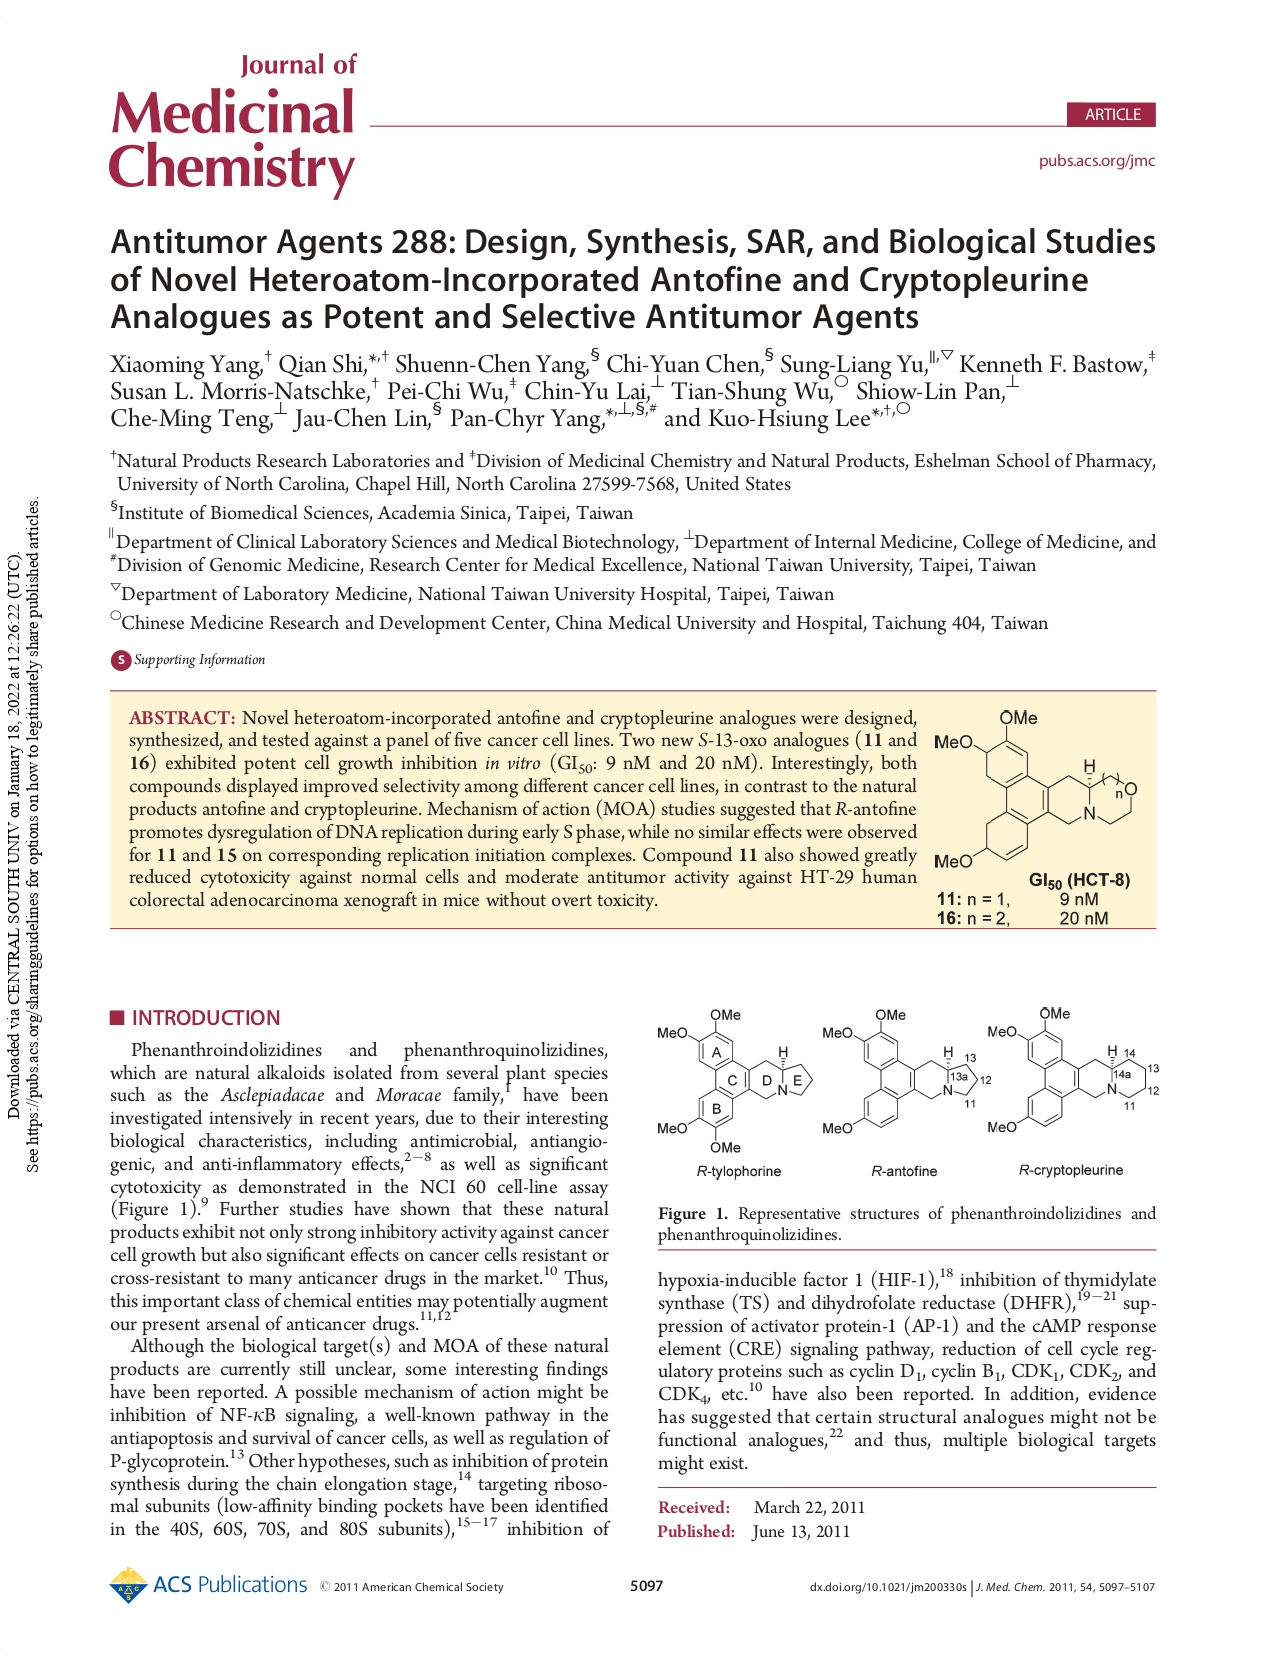exist_molecular: (934, 704, 1142, 871), (653, 1005, 814, 1154), (985, 1003, 1148, 1138), (821, 1007, 980, 1137)
